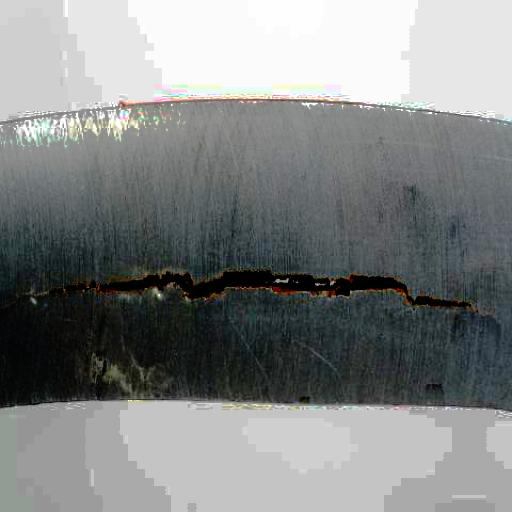crack: (47, 262, 470, 327)
